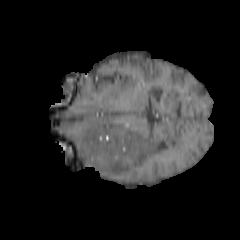glioma: (78, 122, 156, 177)
